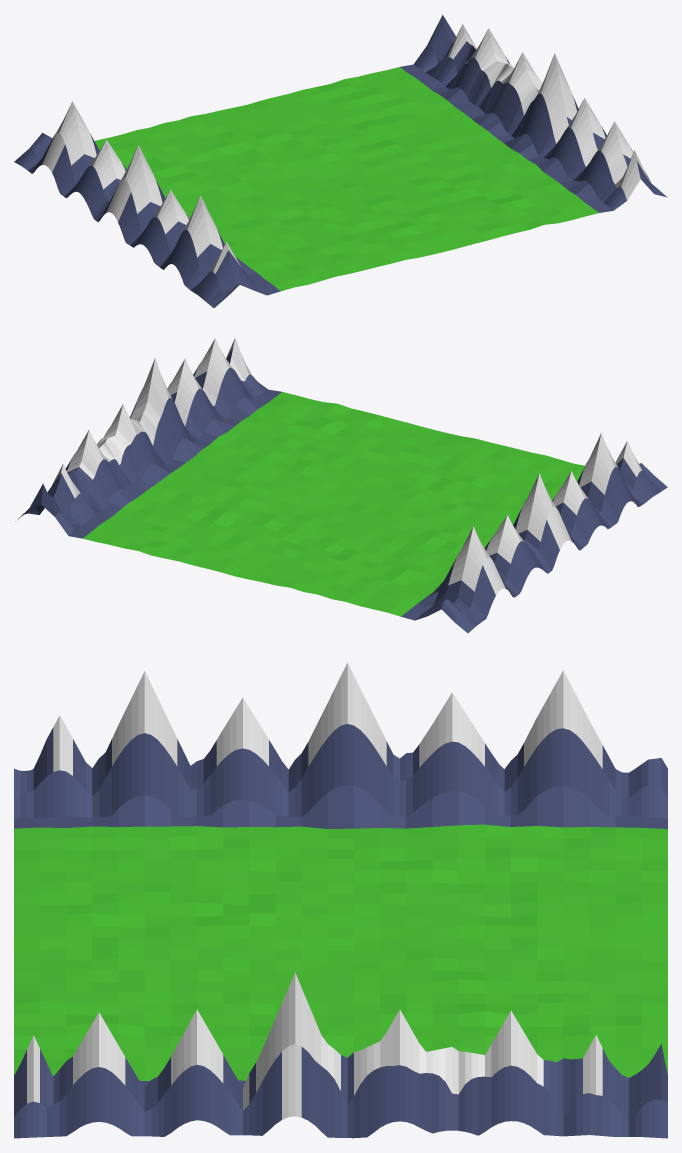
Rendered from terrainGreen.glb.
3 renders of one model, top to bottom at view 1: azimuth 30°, elevation 25°; view 2: azimuth 150°, elevation 25°; view 3: azimuth 270°, elevation 25°, orthographic. The views are drawn at different scales.
Visible parts, largest first — view 1: Plan; view 2: Plan; view 3: Plan.
Part boxes in pixels (x1,y1,x2,y2): Plan: (14,15,667,307); Plan: (15,338,667,633); Plan: (14,663,667,1138).
Size of the model in its own units: 65.52 by 12.22 by 50.
